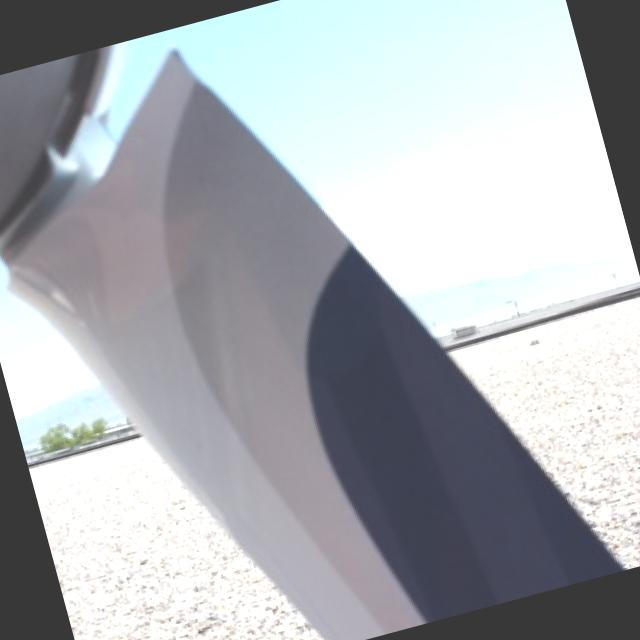healthy: (0, 54, 621, 640)
